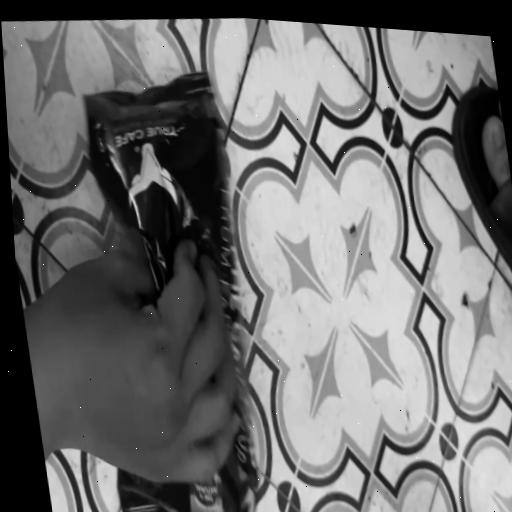cafe_hat: (85, 72, 243, 362), (117, 389, 257, 512)
